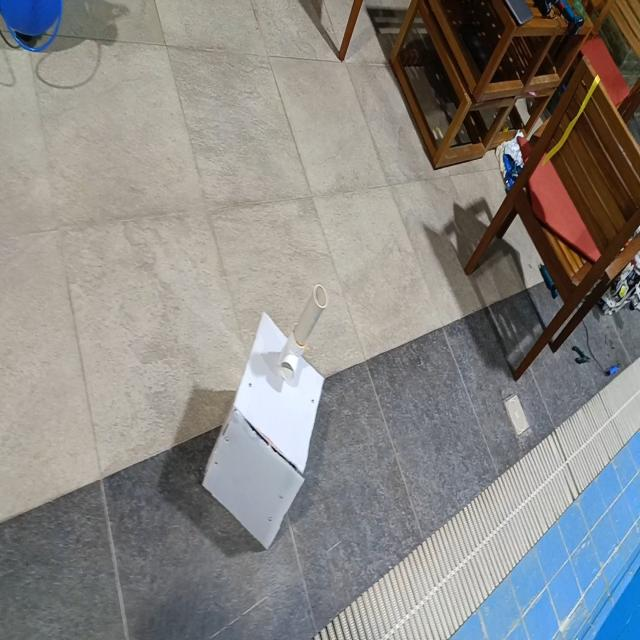Cube: (200, 300, 330, 550)
